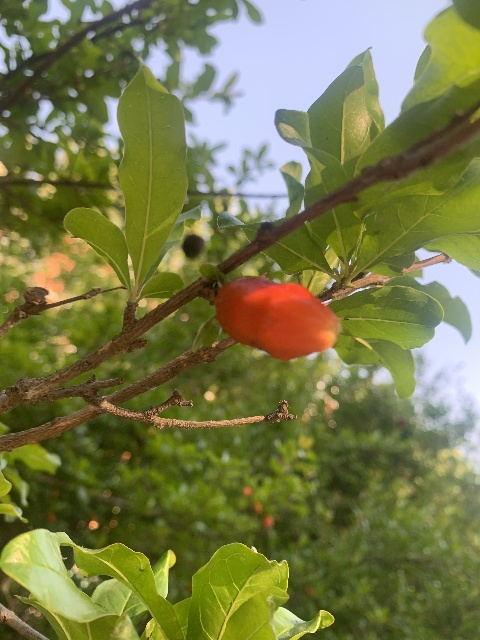bud: (214, 277, 339, 360)
